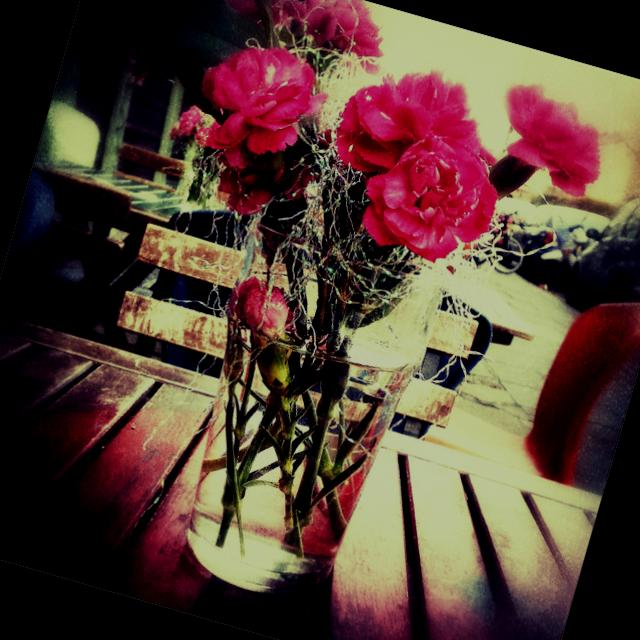Vehicle: (561, 181, 640, 328)
